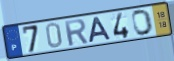0: (45, 22, 64, 50)
4: (112, 11, 131, 40)
7: (22, 24, 40, 54)
A: (88, 16, 113, 44)
O: (131, 9, 155, 37)
R: (63, 18, 90, 48)
